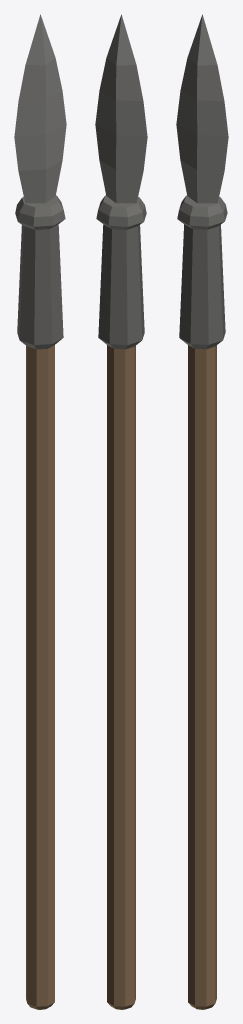
The model's file is SM_pwe_egypt_spear_01a.fbx.
3 views of the same model, side by side, from view 1: azimuth 30°, elevation 25°; view 2: azimuth 150°, elevation 25°; view 3: azimuth 330°, elevation 25° (orthographic).
Parts seen in each view (by area): view 1: SM_pwe_egypt_spear_01a; view 2: SM_pwe_egypt_spear_01a; view 3: SM_pwe_egypt_spear_01a.
Part boxes in pixels (x1,y1,x2,y2): SM_pwe_egypt_spear_01a: [14, 14, 66, 1009]; SM_pwe_egypt_spear_01a: [95, 14, 147, 1009]; SM_pwe_egypt_spear_01a: [176, 14, 228, 1009].
Bounding box in the file's own units: 9.85 × 179 × 8.52.
